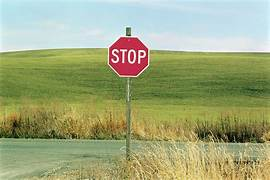stop: (108, 35, 149, 78)
